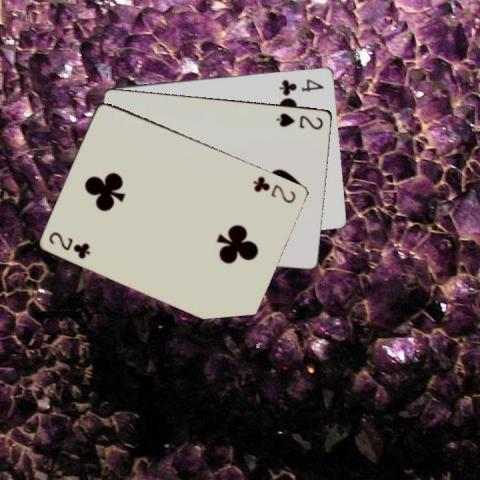2c: (250, 172, 298, 204), (46, 229, 92, 260)
2s: (273, 110, 325, 131)
4c: (276, 76, 325, 95)
